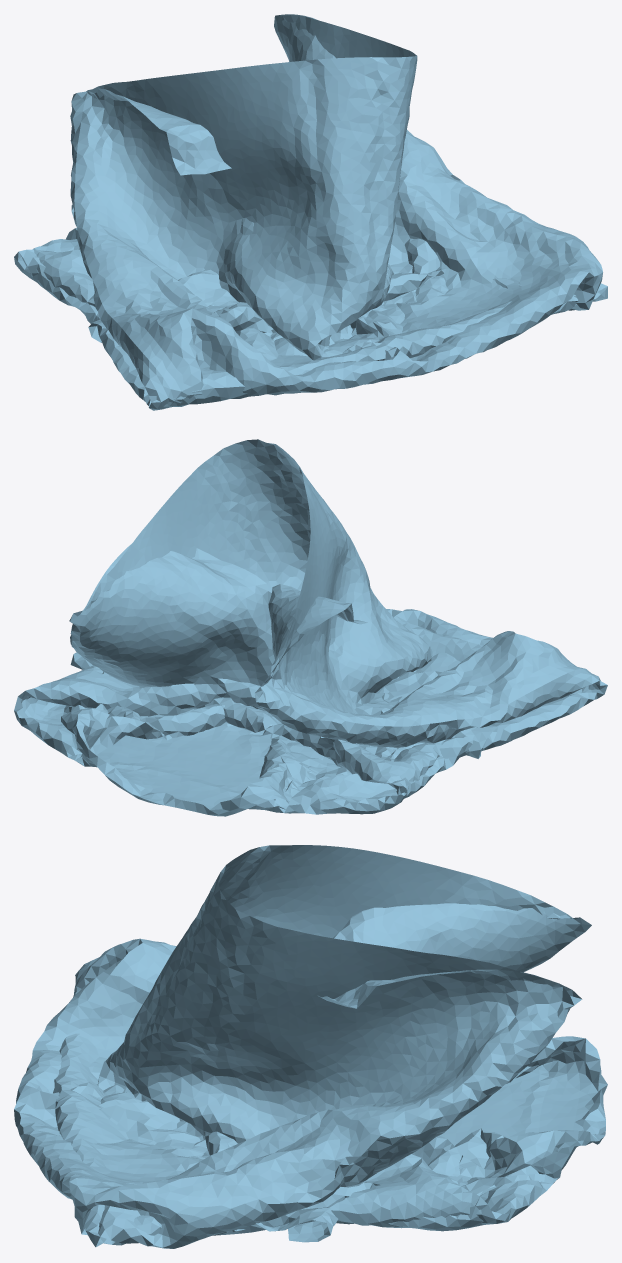
File: frame_19.glb
The picture shows the model from 3 angles, top to bottom: view 1: azimuth 30°, elevation 25°; view 2: azimuth 150°, elevation 25°; view 3: azimuth 270°, elevation 25°; orthographic projection. The views are drawn at different scales.
Parts seen in each view (by area): view 1: frame_19.obj; view 2: frame_19.obj; view 3: frame_19.obj.
Boxes of the visible parts, x1,y1,x2,y2 form: frame_19.obj: (14, 14, 607, 410); frame_19.obj: (14, 439, 607, 816); frame_19.obj: (14, 845, 607, 1248).
Bounding box in the file's own units: 0.9411 × 0.4788 × 0.8958.
